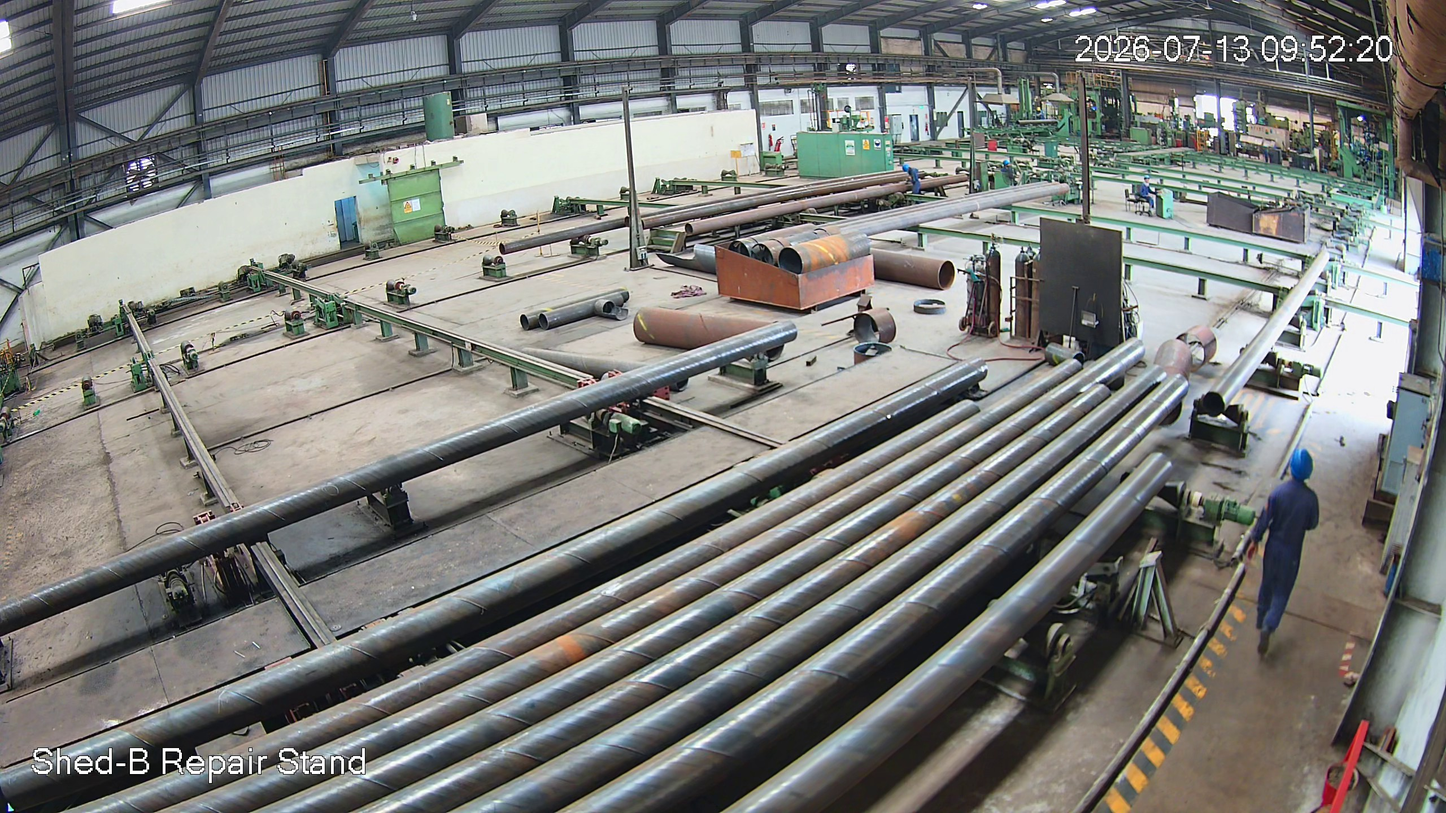Helmet: (1281, 444, 1324, 496)
Person: (1241, 449, 1328, 660)
